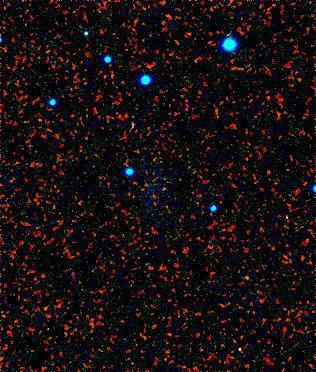star: (234, 262, 264, 292)
